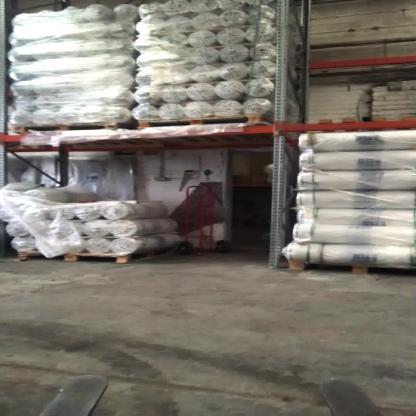vertical_damage: (255, 242, 291, 276)
